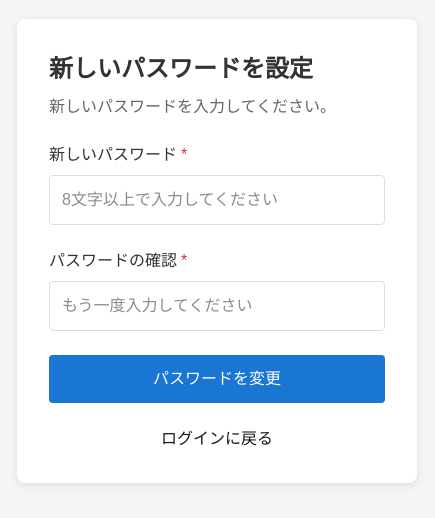
Scenario: PasswordResetConfirmPage › Password validation › shows error for mismatched passwords
The image size is (435, 518).
Type "ValidPass1" into the password field labelled "新しいパスワード*" at (217, 200), box top-left (49, 175), bottom-right (385, 225)
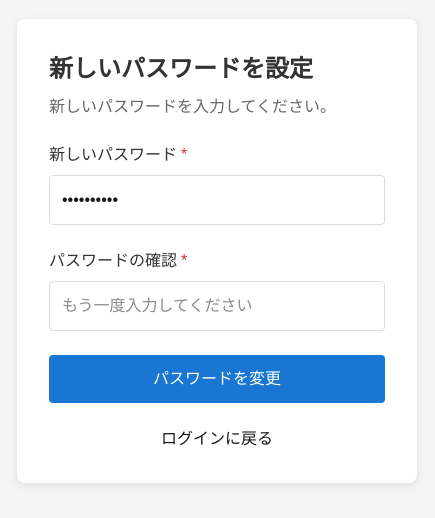
Type "DifferentPass1" into the password field labelled "パスワードの確認*" at (217, 306), box top-left (49, 281), bottom-right (385, 331)
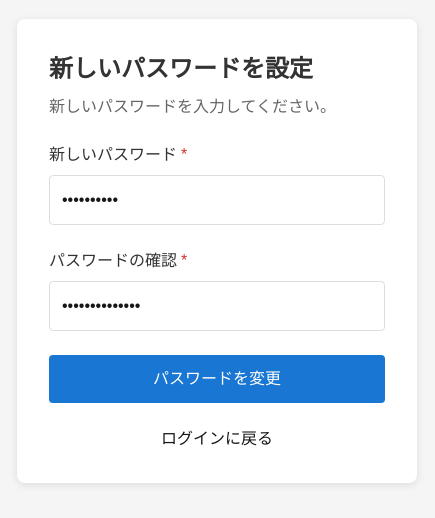
Click the button "パスワードを変更" at (217, 379), box top-left (49, 355), bottom-right (385, 403)
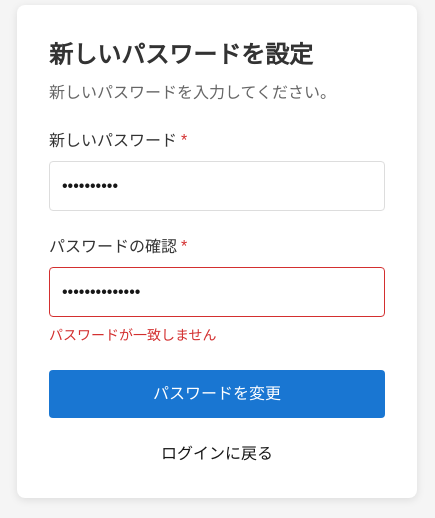
Expected: the text "パスワードが一致しません" is shown, top-left (49, 326), bottom-right (217, 342)
